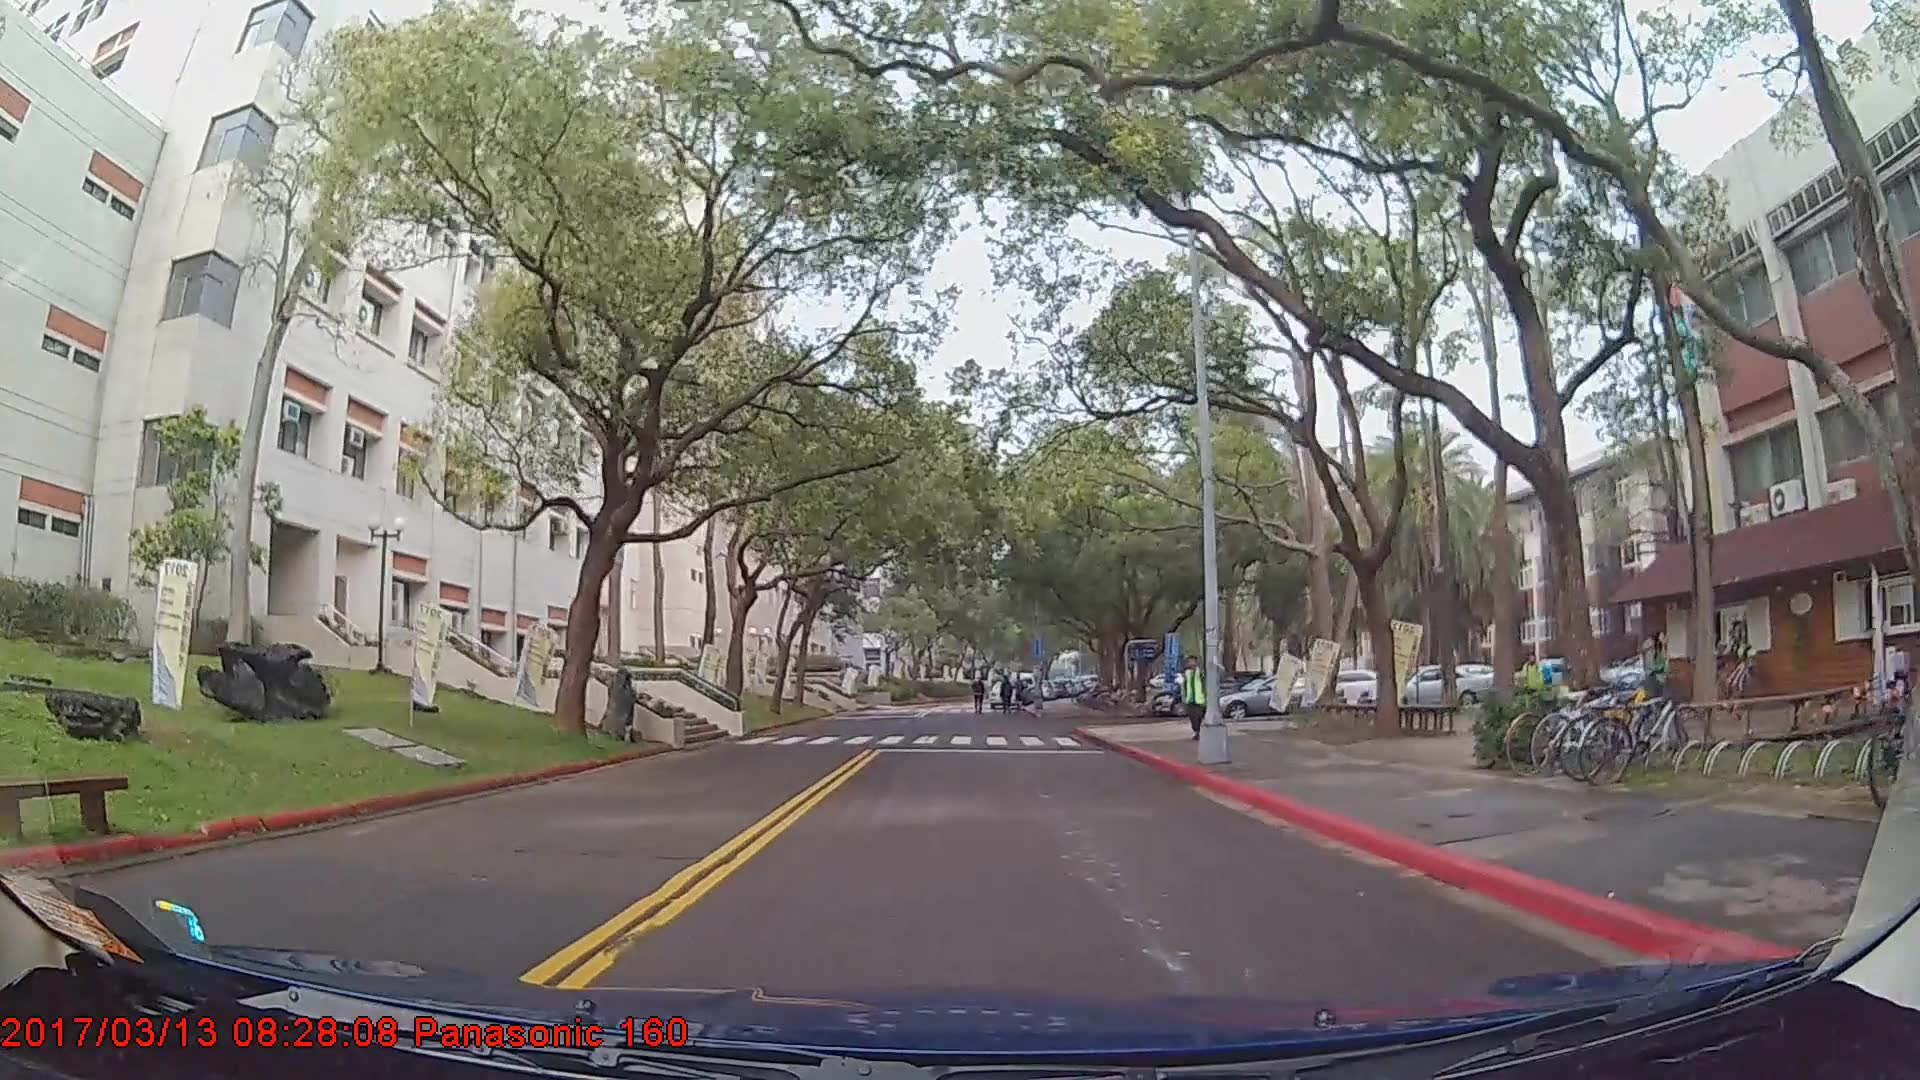pedestrian: (1177, 654, 1212, 745), (1523, 652, 1546, 718), (996, 673, 1019, 719)
vehicle: (1356, 664, 1488, 709), (1214, 673, 1343, 717)
